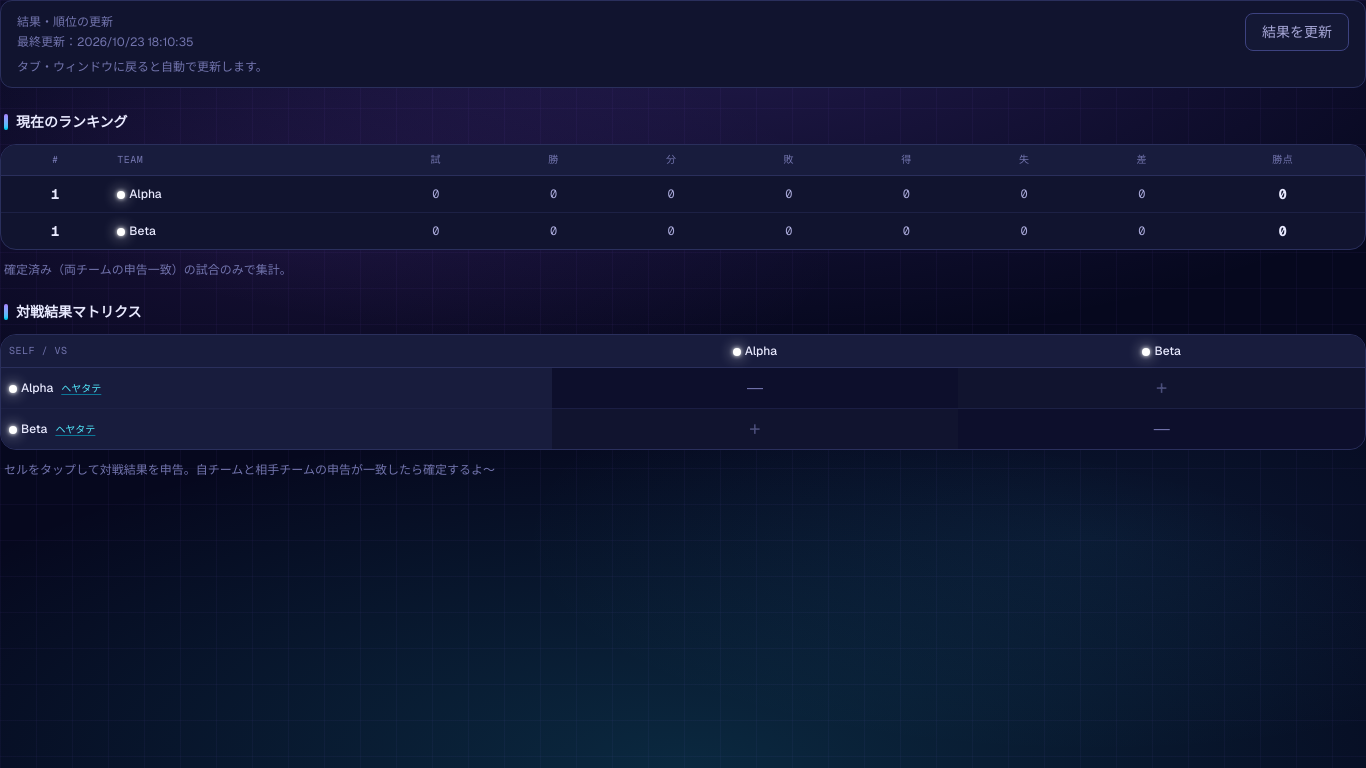
it: MatchMatrix result refresh › reports refresh failure separately after a successful score save
Check: the button "結果を更新" is enabled, box [1245, 13, 1349, 51]
Click the 1st text "+". click: click(1162, 387)
box: [1156, 374, 1167, 400]
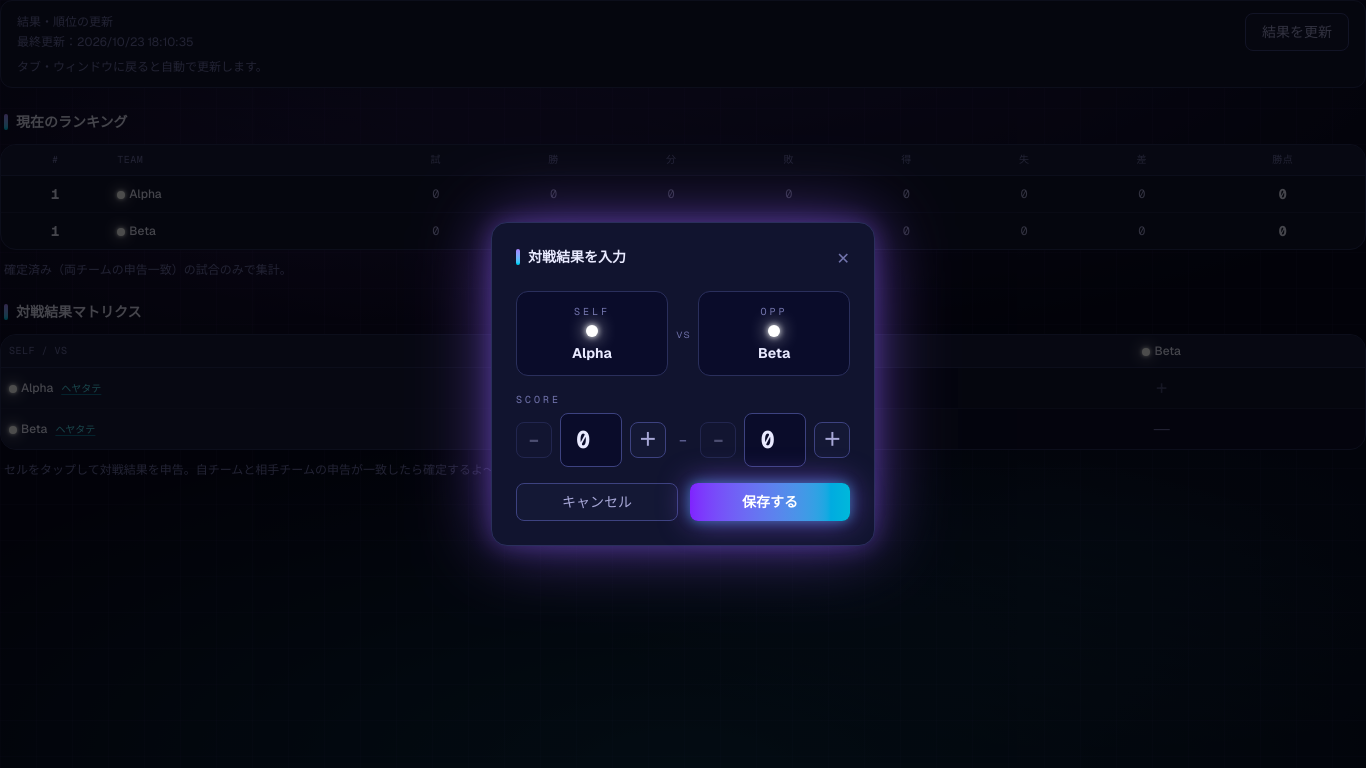
Click the button "保存する". click: click(770, 502)
box: [690, 483, 850, 521]
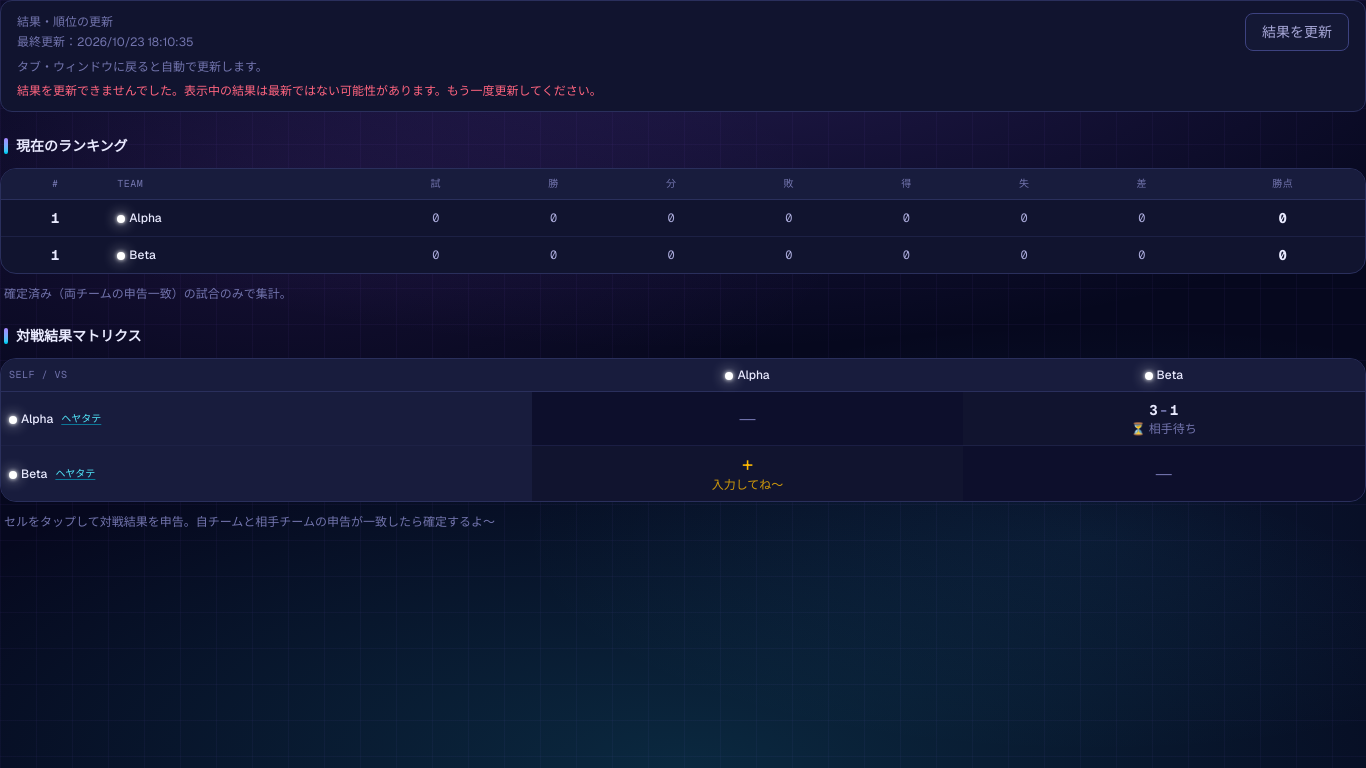
Check: the dialog is gone
Check: the message "結果を更新できませんでした。表示中の結果は最新ではない可能性があります。もう一度更新してください。" is shown, box [17, 83, 602, 99]
